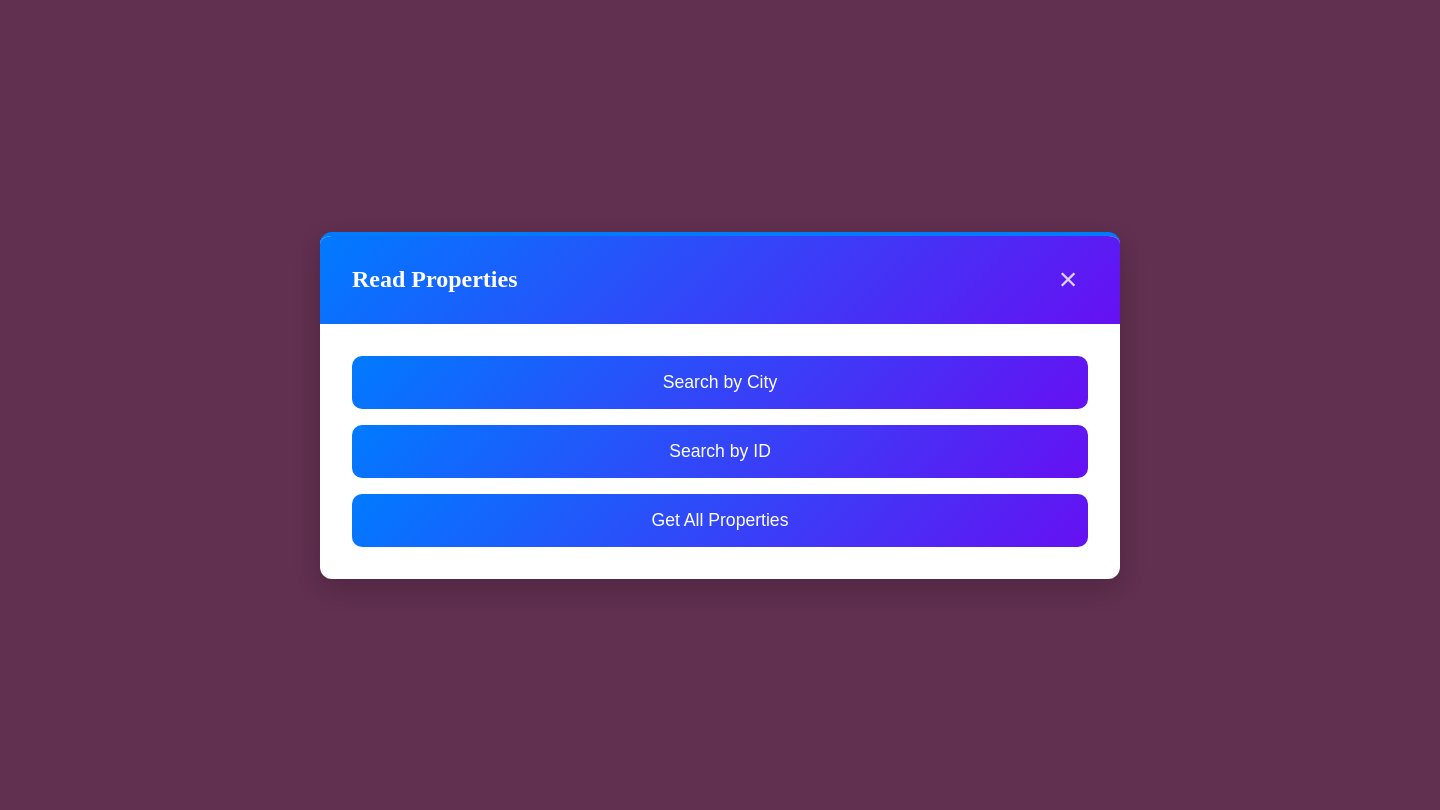
Test: Simulating user click › prompts city name input when "Search by City" button is clicked
Click the button "Search by City".
click(720, 382)  # box [352,356,1088,408]
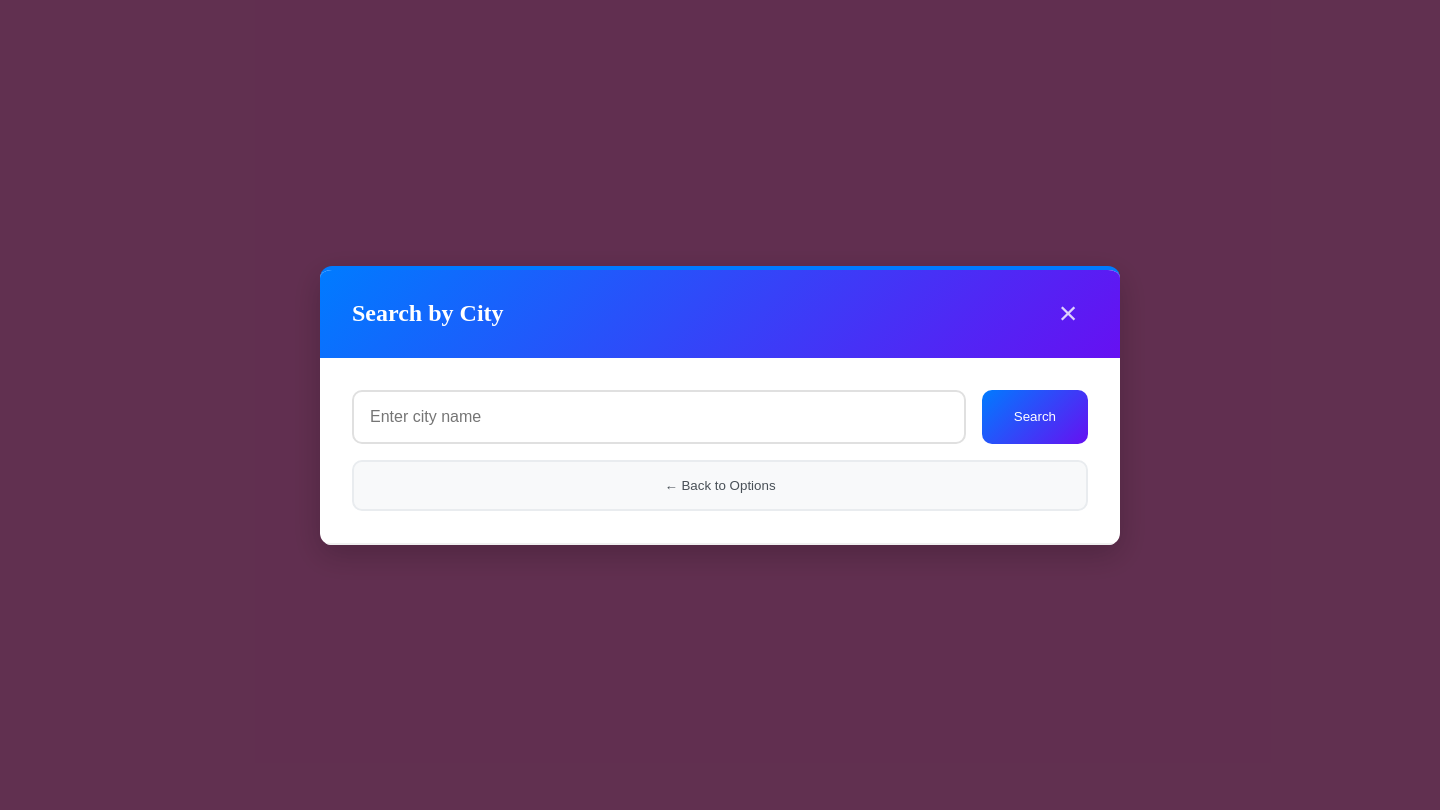
Expected: the field with placeholder "Enter city name" is shown, [352,390,966,444]
